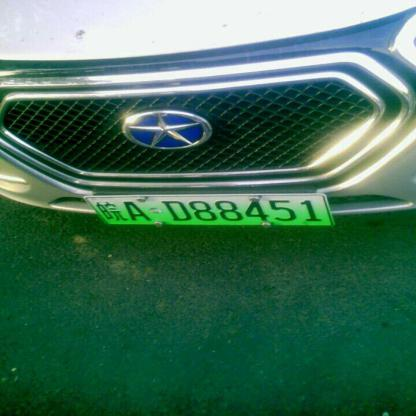lp: (84, 194, 333, 225)
